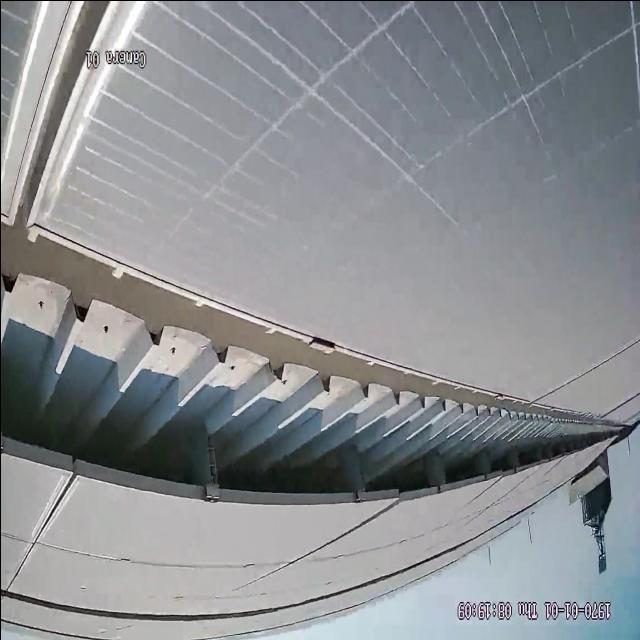interior panel: (2, 0, 137, 210), (10, 484, 74, 579)
outher panel: (2, 211, 622, 496)
